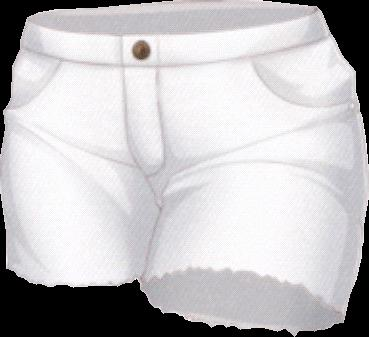Hemline: (137, 267, 345, 322), (5, 267, 140, 289)
Pantleg: (120, 0, 368, 335), (0, 5, 157, 286)
Waistline: (20, 33, 332, 67), (26, 6, 318, 39)
